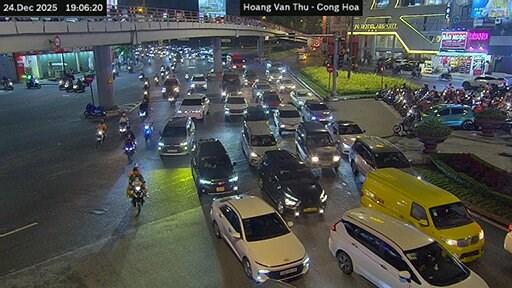motorbike: (393, 108, 416, 134), (130, 179, 144, 215), (84, 103, 105, 116), (122, 140, 134, 161), (118, 121, 128, 139), (144, 122, 152, 144), (26, 76, 39, 88), (58, 77, 71, 89), (137, 108, 147, 121), (73, 81, 85, 91), (96, 130, 103, 147), (374, 90, 387, 99), (64, 79, 73, 90), (167, 95, 176, 106), (439, 72, 451, 80), (3, 79, 12, 89), (112, 67, 118, 79), (412, 70, 421, 77), (153, 76, 159, 85), (143, 80, 149, 89), (391, 66, 400, 72), (160, 71, 165, 80), (138, 73, 144, 80), (128, 64, 133, 72), (160, 64, 163, 71), (185, 76, 188, 81), (185, 72, 188, 75)
